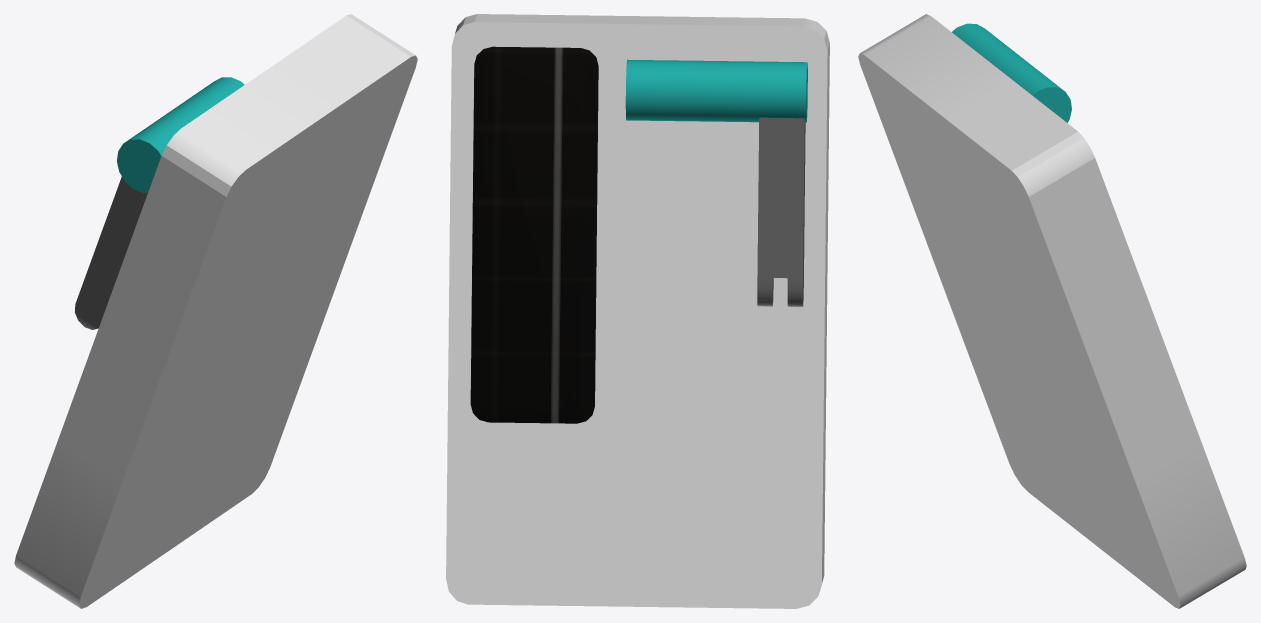
The model's file is SM_StartHarvest.fbx.
3 views of the same model, side by side, from view 1: azimuth 30°, elevation 25°; view 2: azimuth 150°, elevation 25°; view 3: azimuth 270°, elevation 25° (orthographic). The views are drawn at different scales.
Parts seen in each view (by area): view 1: StartHarvest, HarvestLever, HarvestHandle; view 2: StartHarvest, HarvestHandle, HarvestLever; view 3: StartHarvest, HarvestHandle.
Part boxes in pixels (left/top/right/bottom): StartHarvest: left=14, top=14, right=417, bottom=608; HarvestLever: left=75, top=176, right=147, bottom=329; HarvestHandle: left=117, top=77, right=244, bottom=192; StartHarvest: left=446, top=14, right=829, bottom=608; HarvestHandle: left=625, top=59, right=807, bottom=122; HarvestLever: left=757, top=117, right=805, bottom=306; StartHarvest: left=858, top=14, right=1246, bottom=608; HarvestHandle: left=952, top=23, right=1071, bottom=122.
Bounding box in the file's own units: 0.7725 × 0.9885 × 0.6989.
2 materials, 2 textured.
